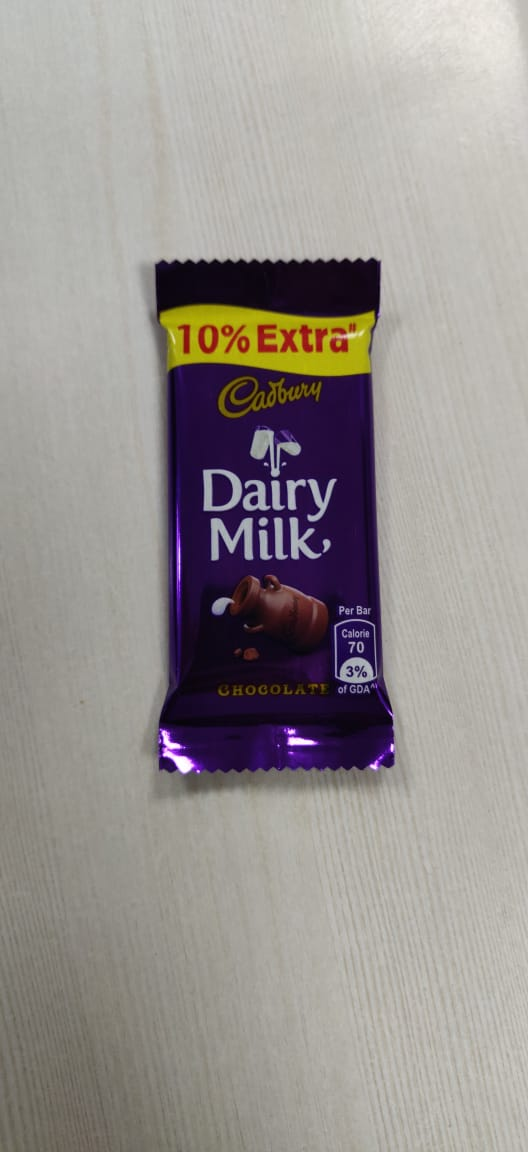dairy milk: (145, 248, 415, 779)
